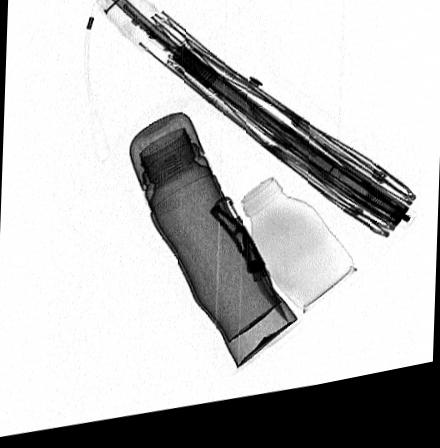Knife: (208, 204, 288, 336)
